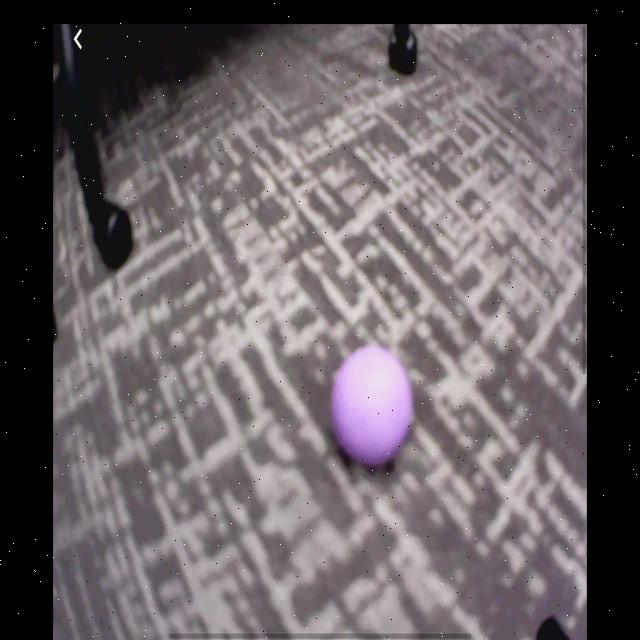ball: (332, 346, 414, 466)
